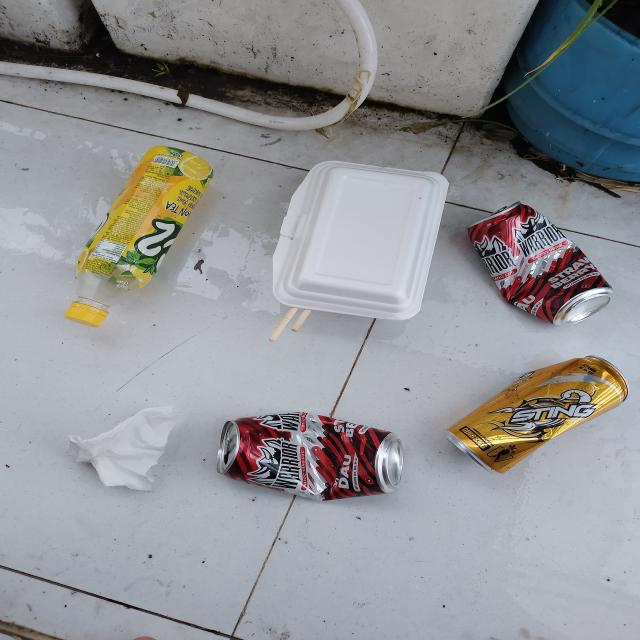bottle: (65, 145, 216, 328)
can: (446, 356, 630, 475), (464, 201, 615, 325), (217, 411, 406, 501)
foam box: (270, 161, 450, 320)
napkin: (68, 405, 180, 491)
